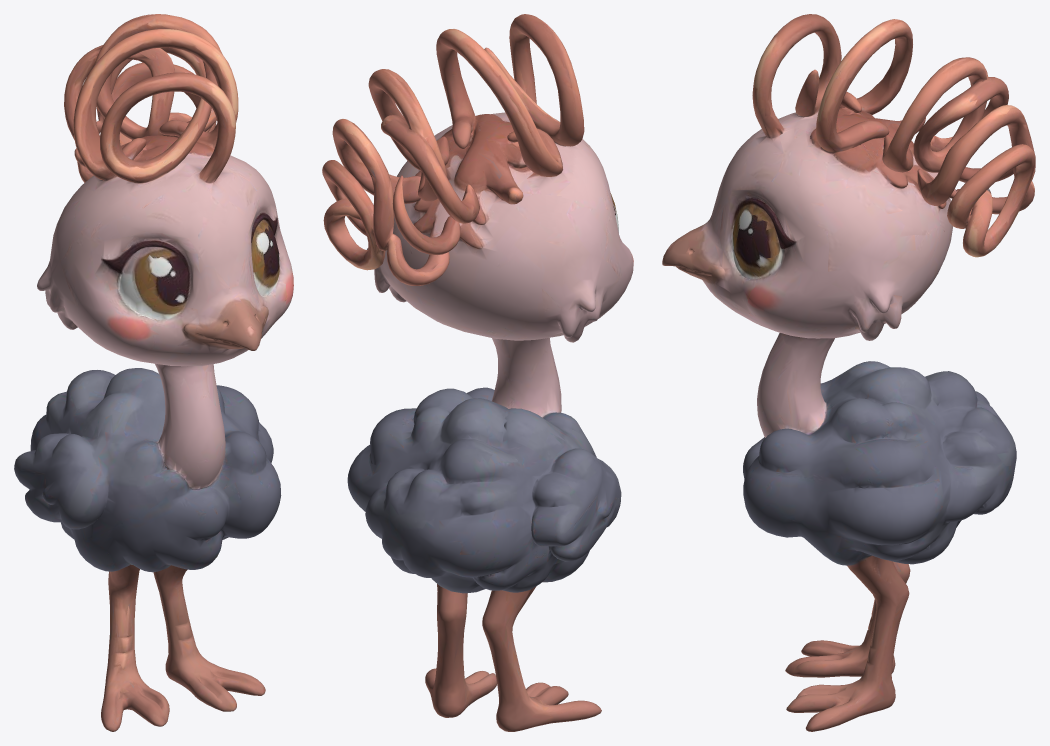
3 renders of one model, left to right at view 1: azimuth 30°, elevation 25°; view 2: azimuth 150°, elevation 25°; view 3: azimuth 270°, elevation 25°, orthographic. The views are drawn at different scales.
Visible parts, largest first — view 1: Mesh_0; view 2: Mesh_0; view 3: Mesh_0.
Boxes of the visible parts, x1=… form: Mesh_0: x1=14, y1=14, x2=293, y2=731; Mesh_0: x1=322, y1=14, x2=633, y2=731; Mesh_0: x1=662, y1=14, x2=1035, y2=731.
Bounding box in the file's own units: 0.7027 × 1.9 × 0.954.
1 material, 1 textured.
